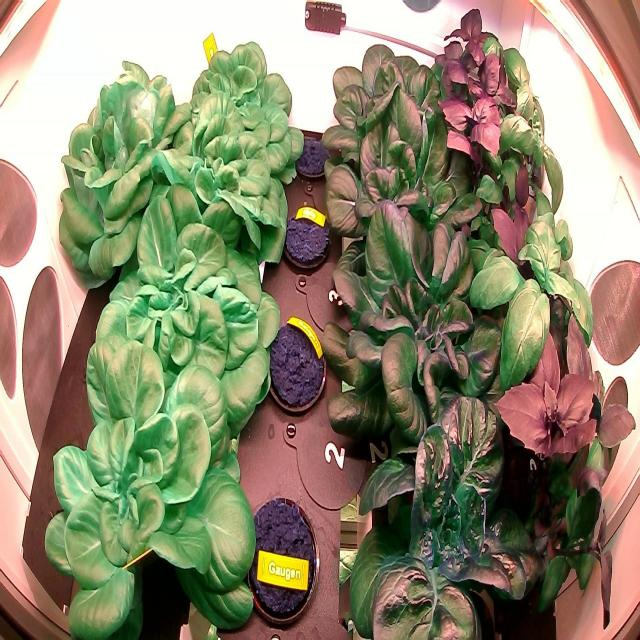Ready: (38, 322, 256, 634), (314, 188, 540, 458), (328, 373, 556, 640), (81, 187, 288, 453), (314, 76, 492, 270), (54, 53, 193, 291), (151, 82, 295, 257), (311, 32, 461, 196), (178, 34, 305, 184)
pod: (244, 489, 321, 624), (261, 304, 330, 421), (276, 198, 334, 278), (288, 122, 333, 186)
